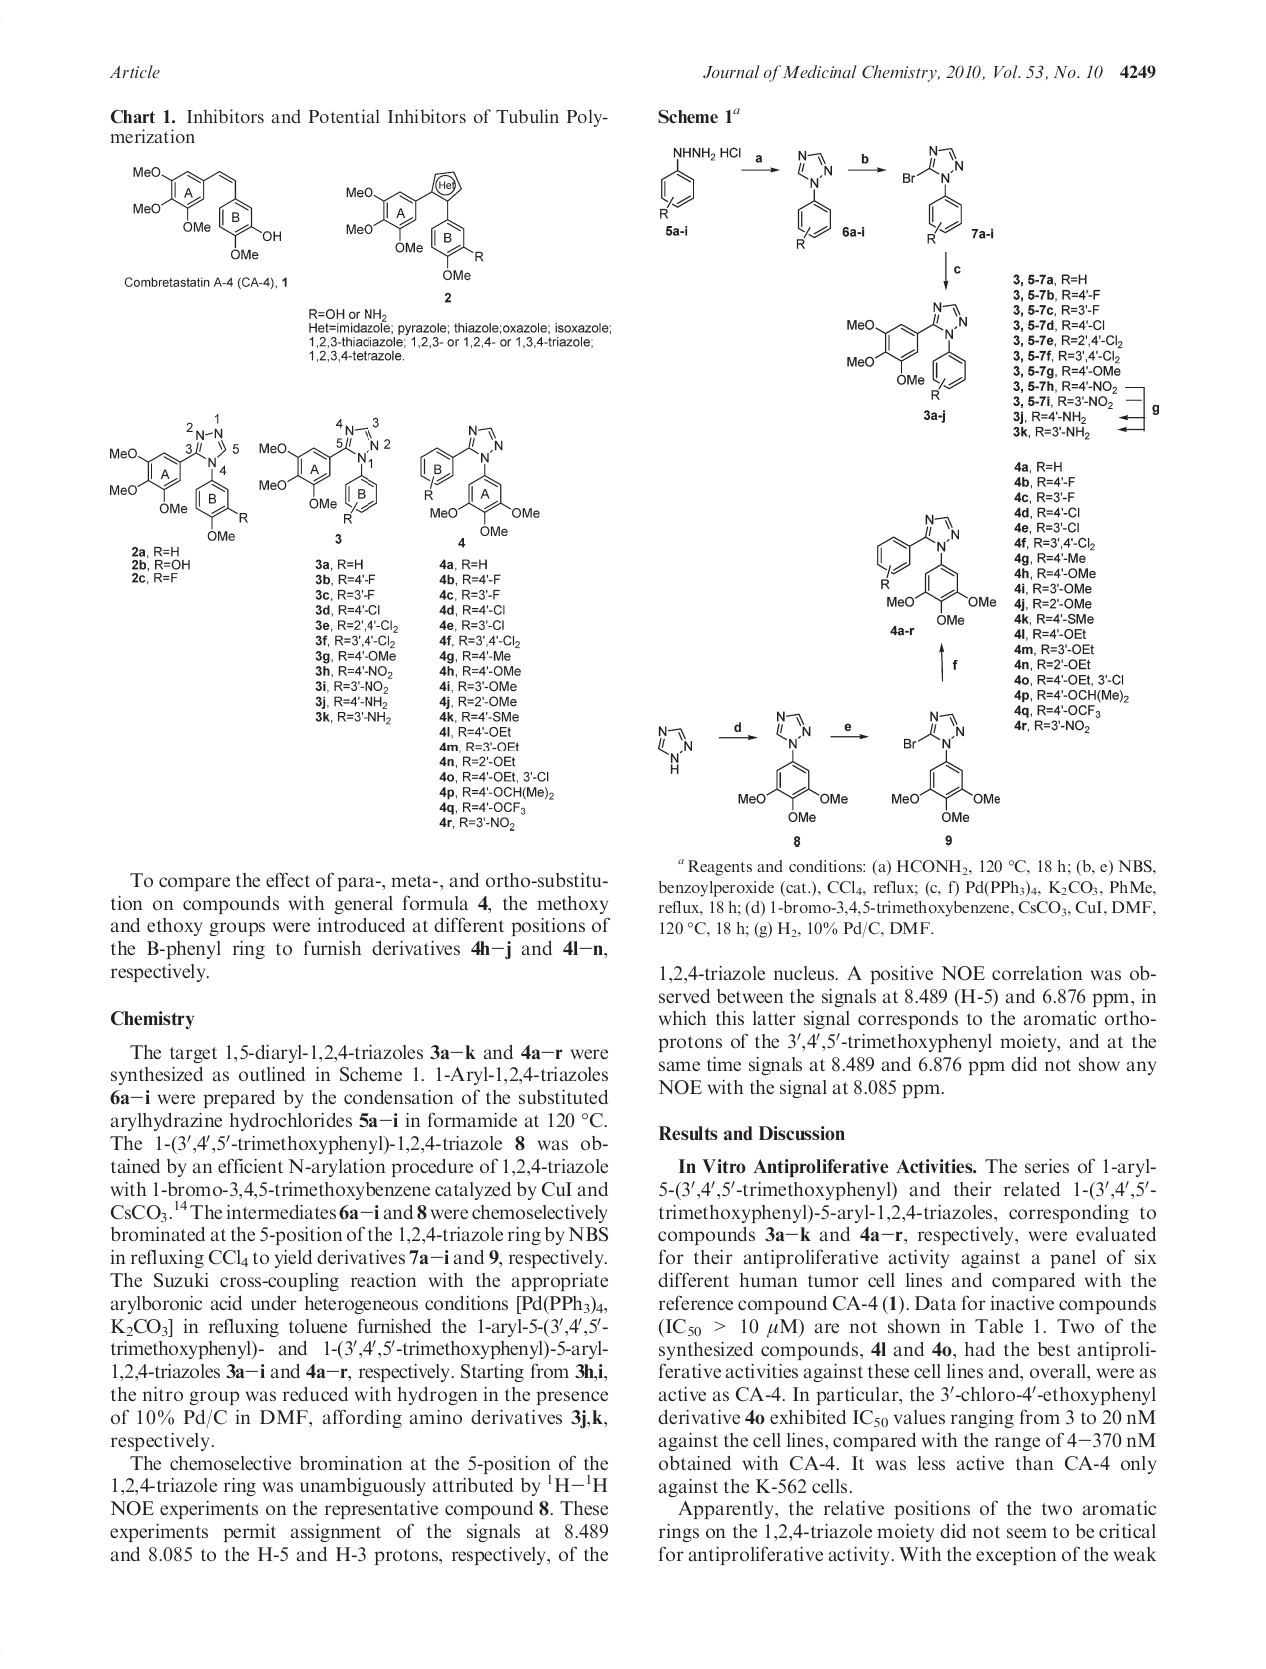exist_molecular: (106, 426, 247, 543), (343, 169, 483, 283), (129, 162, 285, 265), (418, 420, 541, 539), (875, 512, 999, 626), (737, 711, 850, 827), (890, 709, 1003, 825), (844, 298, 969, 402), (259, 424, 380, 525), (902, 144, 965, 243), (660, 142, 742, 219), (793, 146, 835, 249), (658, 723, 694, 775)
